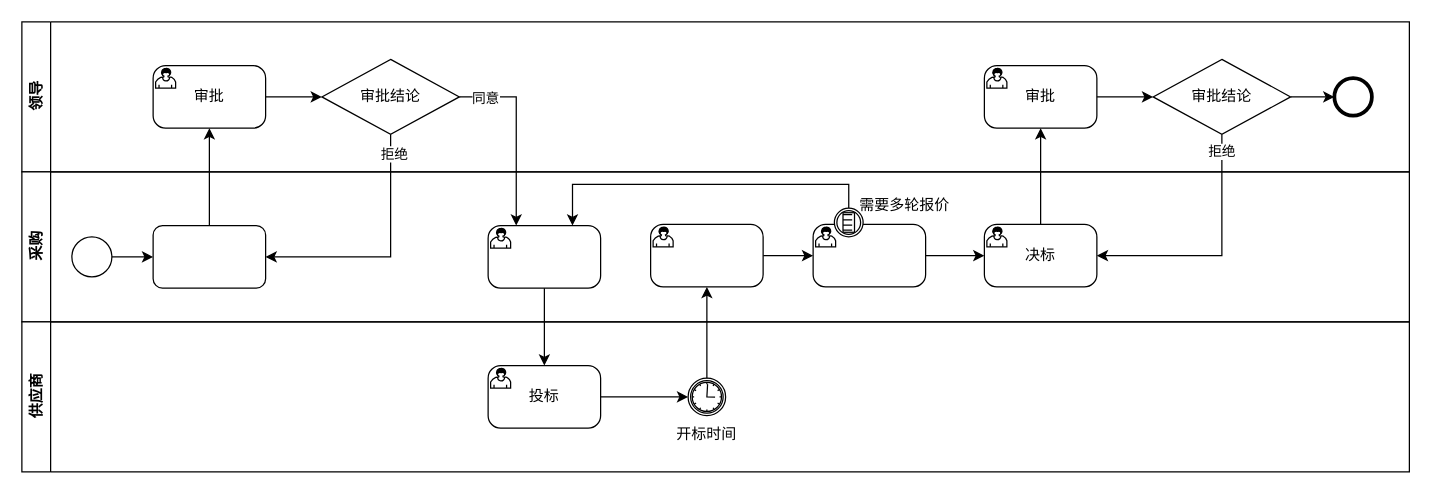
Some shapes in this 1431 by 494 pixel diagram are drawn without their labels. The centre of each missing label's shape, as x and y in pixels:
"创建标书" belongs at pixel 209 256.
"发布标书" belongs at pixel 544 256.
"开标" belongs at pixel 706 255.
"预评标" belongs at pixel 869 255.
